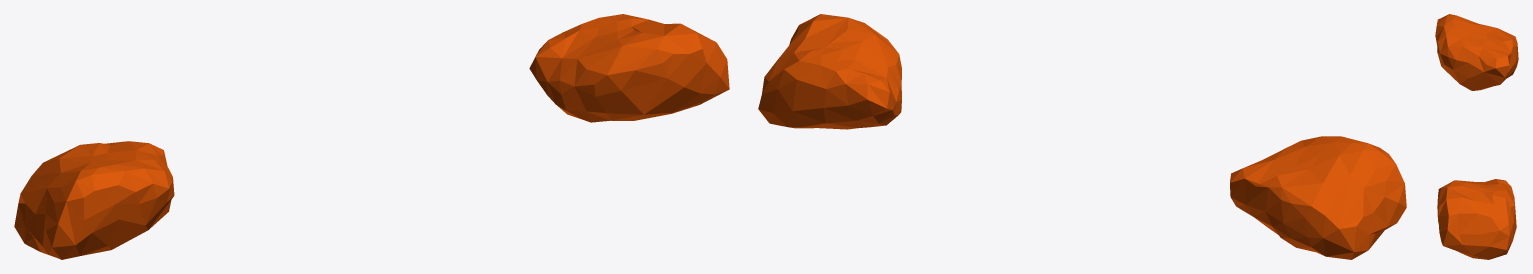
Rendered from 229-BLVM-basolateral amygdaloid nucleus, ventromedial part-('1.0000', '0.3804', '0.0000').obj.
3 views of the same model, side by side, from view 1: azimuth 30°, elevation 25°; view 2: azimuth 150°, elevation 25°; view 3: azimuth 270°, elevation 25° (orthographic). The views are drawn at different scales.
Bounding box in the file's own units: 132 × 18.18 × 22.99.
